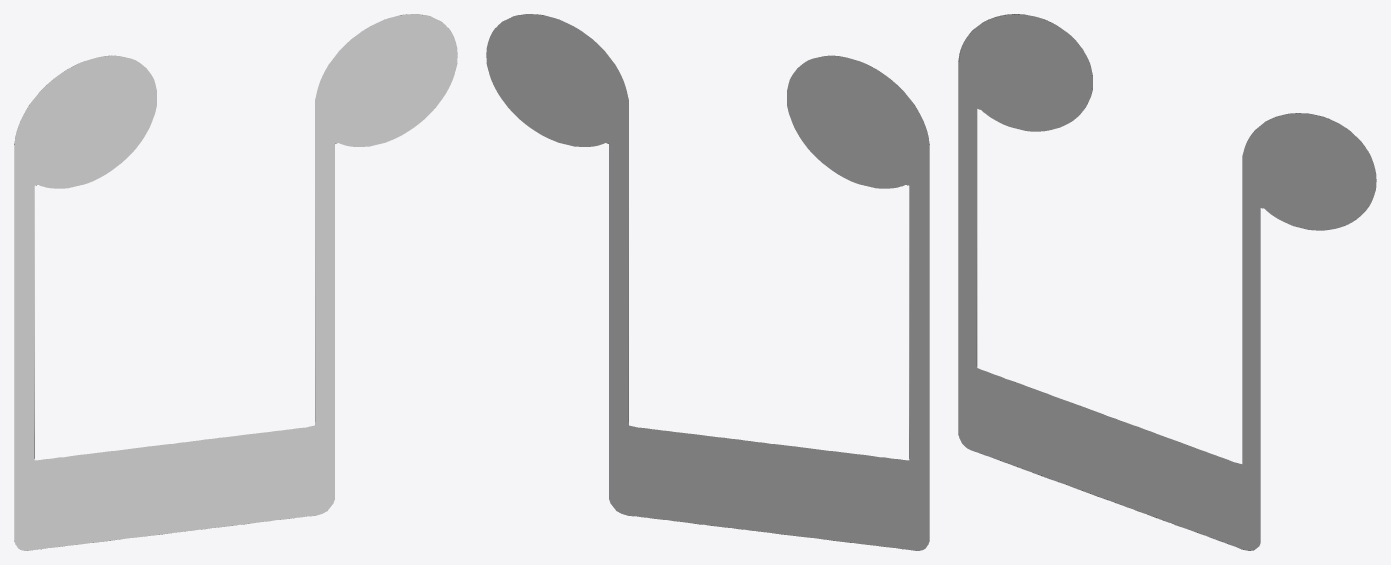
The model's file is double_eighth_note.6cd475bf.glb.
3 views of the same model, side by side, from view 1: azimuth 30°, elevation 25°; view 2: azimuth 150°, elevation 25°; view 3: azimuth 330°, elevation 25° (orthographic). The views are drawn at different scales.
Visible parts, largest first — view 1: double_eighth_note_texture.001; view 2: double_eighth_note_texture.001; view 3: double_eighth_note_texture.001.
Part boxes in pixels (x1,y1,x2,y2): double_eighth_note_texture.001: (14, 14, 457, 550); double_eighth_note_texture.001: (486, 14, 929, 550); double_eighth_note_texture.001: (958, 14, 1376, 550).
Size of the model in its own units: 8.58 by 9.46 by 1.59e-06.
1 material, 1 textured.
